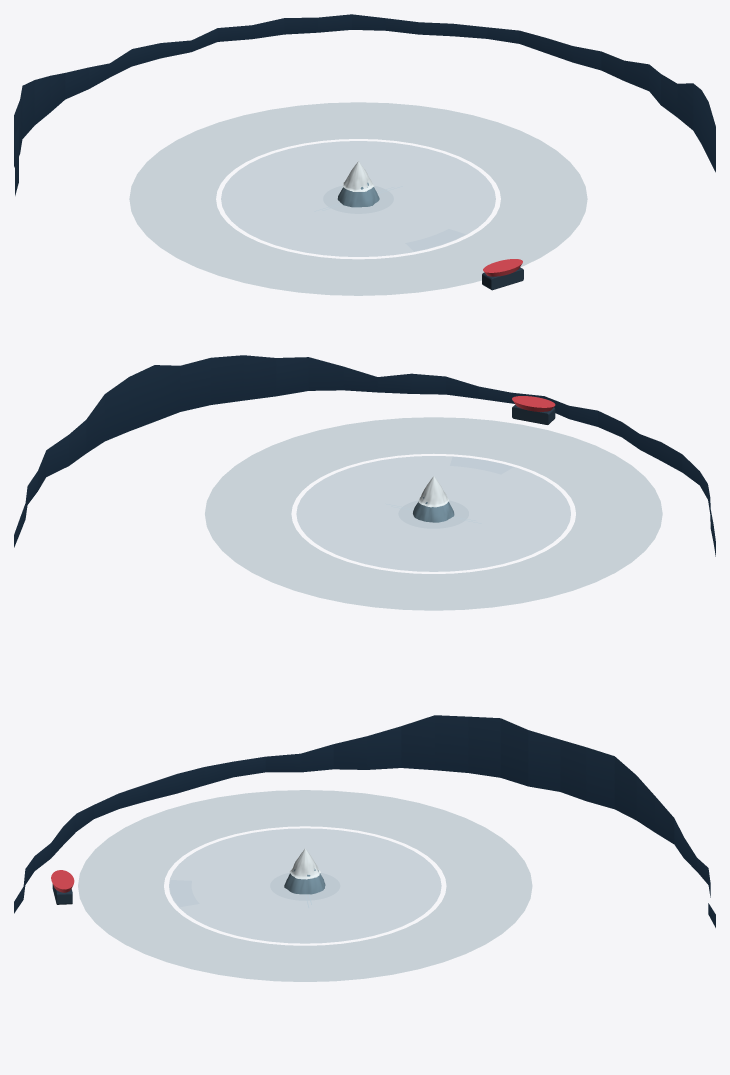
The model's file is rowplay-venue-skierg-low.glb.
3 renders of one model, top to bottom at view 1: azimuth 30°, elevation 25°; view 2: azimuth 150°, elevation 25°; view 3: azimuth 270°, elevation 25°, orthographic.
Parts seen in each view (by area): view 1: environment:skierg:apron, environment:skierg:stadium-field, environment:skierg:horizon-mid, environment:skierg:start-pad, environment:skierg:mountain-peaks, environment:skierg:start-chute, environment:skierg:snowcaps, environment:skierg:timing-lodge-part-1, environment:skierg:timing-lodge-part-2; view 2: environment:skierg:apron, environment:skierg:stadium-field, environment:skierg:horizon-mid, environment:skierg:start-pad, environment:skierg:mountain-peaks, environment:skierg:start-chute, environment:skierg:snowcaps, environment:skierg:timing-lodge-part-1, environment:skierg:timing-lodge-part-2; view 3: environment:skierg:apron, environment:skierg:horizon-mid, environment:skierg:stadium-field, environment:skierg:start-pad, environment:skierg:mountain-peaks, environment:skierg:start-chute, environment:skierg:snowcaps.
Part boxes in pixels (bbox=[...]): environment:skierg:apron: bbox=[129, 102, 587, 295]; environment:skierg:stadium-field: bbox=[221, 141, 495, 256]; environment:skierg:horizon-mid: bbox=[14, 14, 715, 195]; environment:skierg:start-pad: bbox=[323, 185, 393, 213]; environment:skierg:mountain-peaks: bbox=[337, 182, 379, 207]; environment:skierg:start-chute: bbox=[405, 229, 465, 251]; environment:skierg:snowcaps: bbox=[343, 161, 374, 191]; environment:skierg:timing-lodge-part-1: bbox=[482, 267, 523, 290]; environment:skierg:timing-lodge-part-2: bbox=[483, 259, 522, 276]; environment:skierg:apron: bbox=[205, 417, 662, 610]; environment:skierg:stadium-field: bbox=[296, 456, 570, 571]; environment:skierg:horizon-mid: bbox=[14, 355, 715, 556]; environment:skierg:start-pad: bbox=[398, 500, 468, 528]; environment:skierg:mountain-peaks: bbox=[413, 497, 454, 522]; environment:skierg:start-chute: bbox=[450, 456, 513, 474]; environment:skierg:snowcaps: bbox=[418, 476, 448, 507]; environment:skierg:timing-lodge-part-1: bbox=[512, 404, 555, 424]; environment:skierg:timing-lodge-part-2: bbox=[512, 396, 555, 411]; environment:skierg:apron: bbox=[78, 790, 532, 981]; environment:skierg:horizon-mid: bbox=[14, 715, 715, 927]; environment:skierg:stadium-field: bbox=[169, 828, 441, 943]; environment:skierg:start-pad: bbox=[270, 872, 340, 900]; environment:skierg:mountain-peaks: bbox=[284, 868, 325, 894]; environment:skierg:start-chute: bbox=[169, 880, 199, 907]; environment:skierg:snowcaps: bbox=[289, 848, 320, 879].
Bounding box in the file's own units: 168 × 23.14 × 170.
